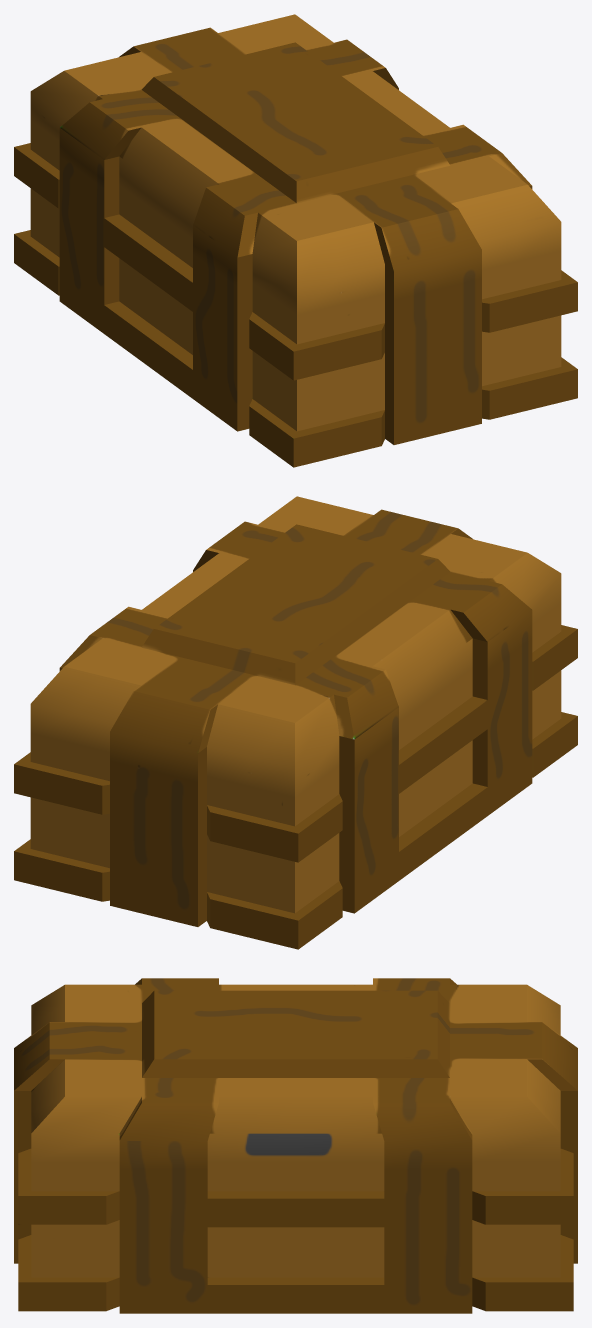
The model's file is chest exported.FBX.
3 renders of one model, top to bottom at view 1: azimuth 30°, elevation 25°; view 2: azimuth 150°, elevation 25°; view 3: azimuth 270°, elevation 25°, orthographic.
Visible parts, largest first — view 1: Box001; view 2: Box001; view 3: Box001.
Part boxes in pixels (x1=…): Box001: x1=14, y1=14, x2=577, y2=467; Box001: x1=14, y1=496, x2=577, y2=949; Box001: x1=14, y1=978, x2=577, y2=1313.
Size of the model in its own units: 56.49 by 40.06 by 94.25.
